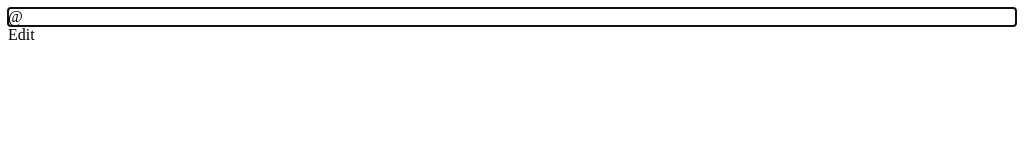
completion list: the active entry follows real pointer movement › only records the position with the first event after the results change
Clear the field named "Edit" at [15, 16], box [8,8,23,25]
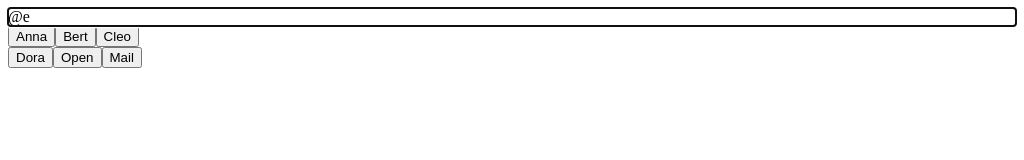
Check: the list is shown, box [8,26,142,68]
Clear the field named "Edit" at [19, 16], box [8,8,30,25]
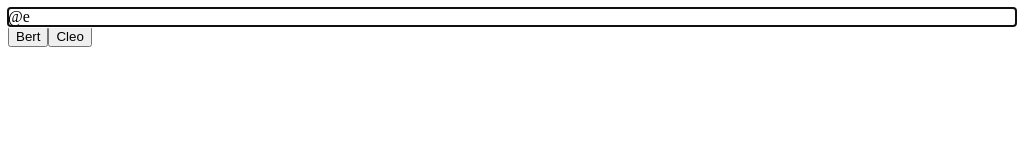
Check: the number of options is 2, box [8,26,48,47]; [48,26,92,47]
